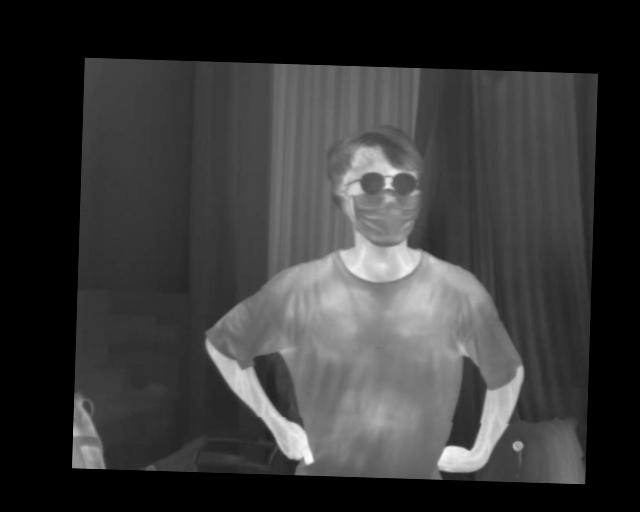face: (323, 123, 428, 250)
